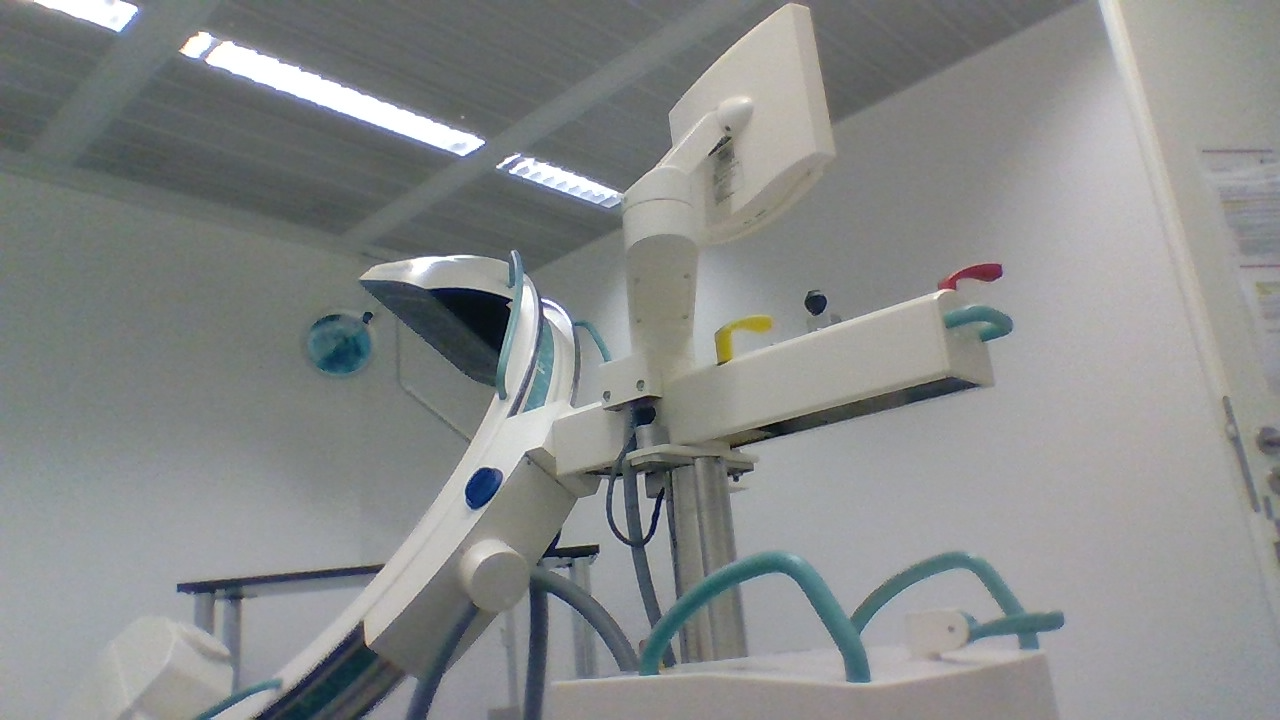carmBACK: (901, 607, 1067, 660)
carmDOWN: (111, 612, 233, 716)
carmLOCK: (461, 466, 503, 508)
carmSCREEN: (663, 3, 835, 244)
carmUP: (359, 253, 583, 389)
